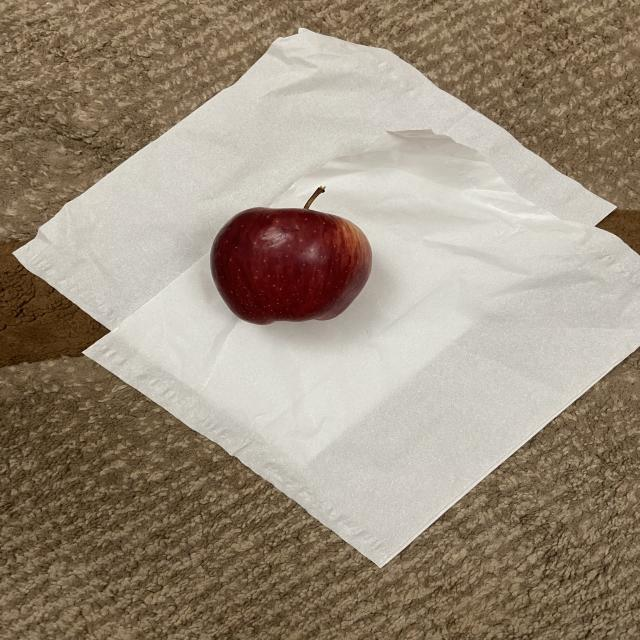apple: (210, 184, 373, 329)
